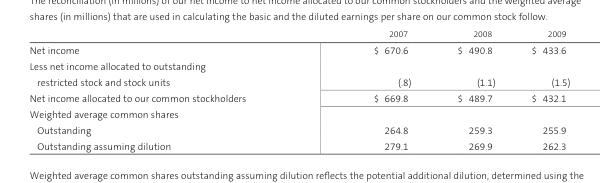table: (28, 28, 569, 151)
table column: (28, 28, 309, 151), (309, 28, 433, 151), (433, 28, 512, 151), (512, 28, 569, 151)
table column header: (28, 28, 569, 41)
table projected row header: (28, 106, 569, 122)
table row: (28, 58, 569, 90), (28, 41, 569, 58), (28, 90, 569, 106), (28, 106, 569, 122), (28, 122, 569, 138), (28, 28, 569, 41), (28, 138, 569, 151)
